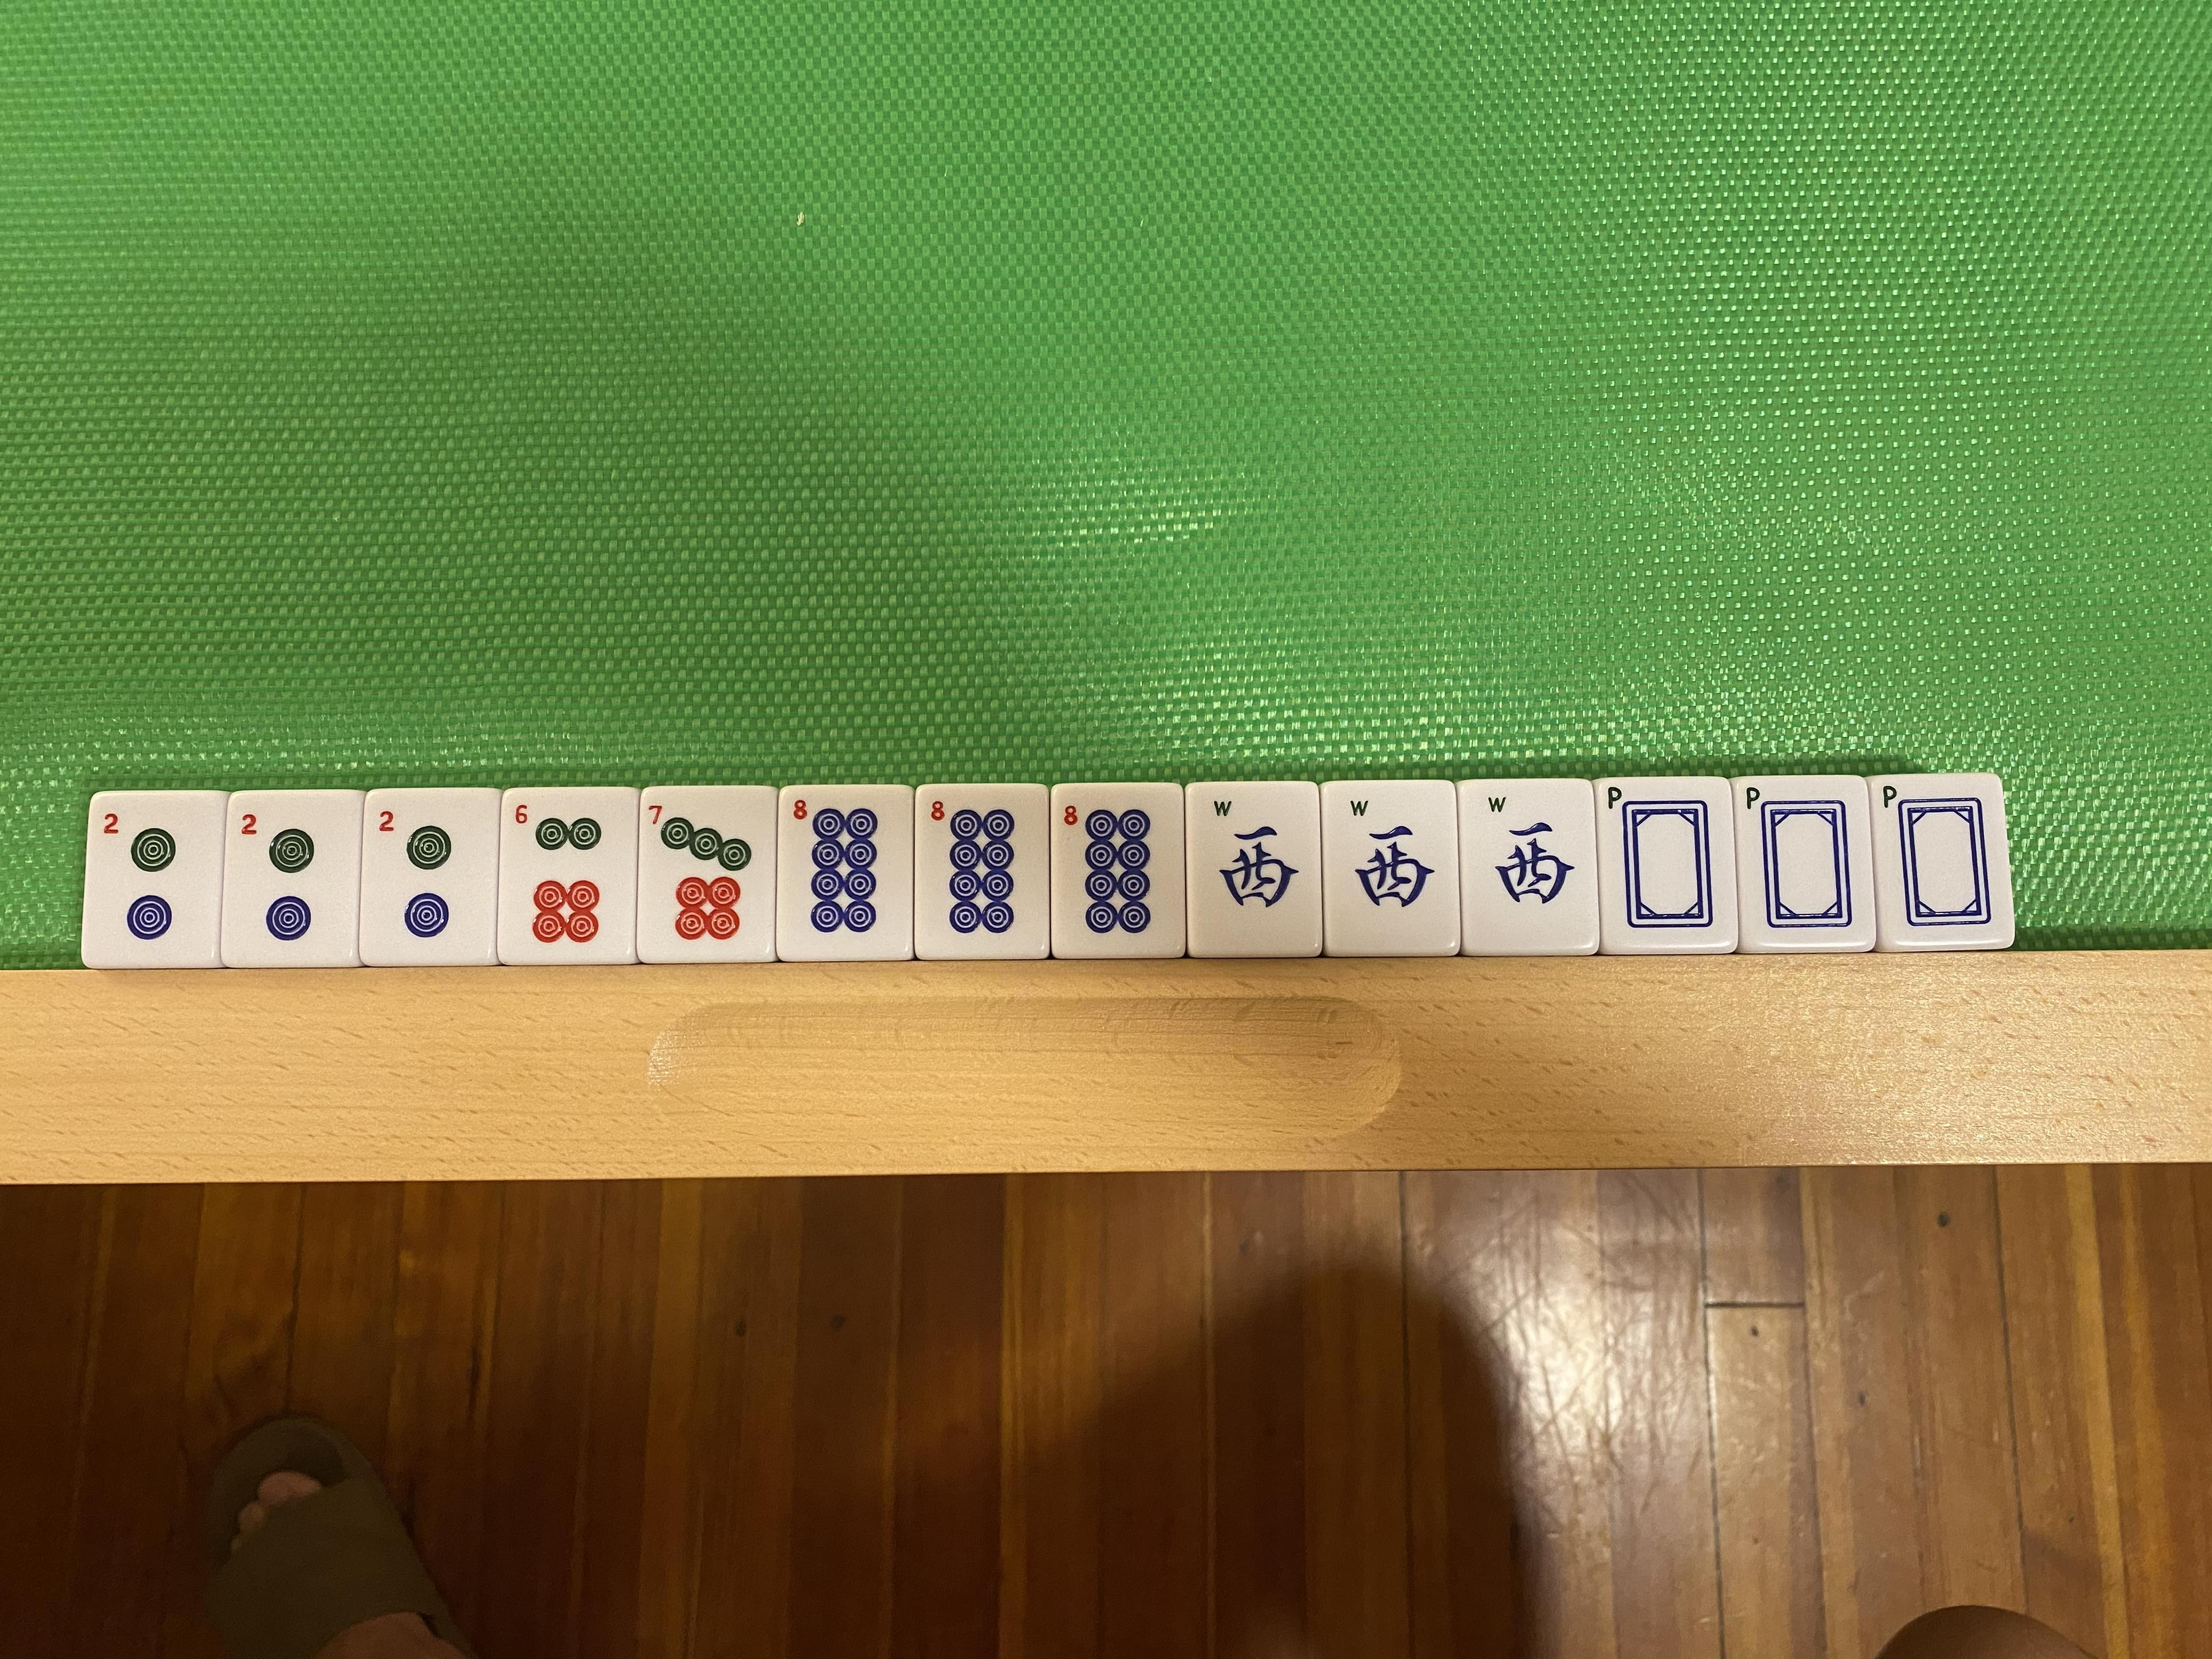circle-eight: (779, 793, 914, 960), (1055, 786, 1181, 958), (921, 788, 1043, 957)
circle-seven: (641, 791, 773, 962)
circle-six: (503, 793, 634, 962)
circle-two: (368, 791, 496, 965), (228, 795, 355, 964), (91, 798, 212, 964)
honor-blue_dragon: (1606, 775, 1733, 948), (1879, 775, 2005, 946), (1743, 777, 1869, 945)
honor-west_wind: (1465, 781, 1594, 951), (1190, 782, 1317, 955), (1329, 784, 1458, 953)
